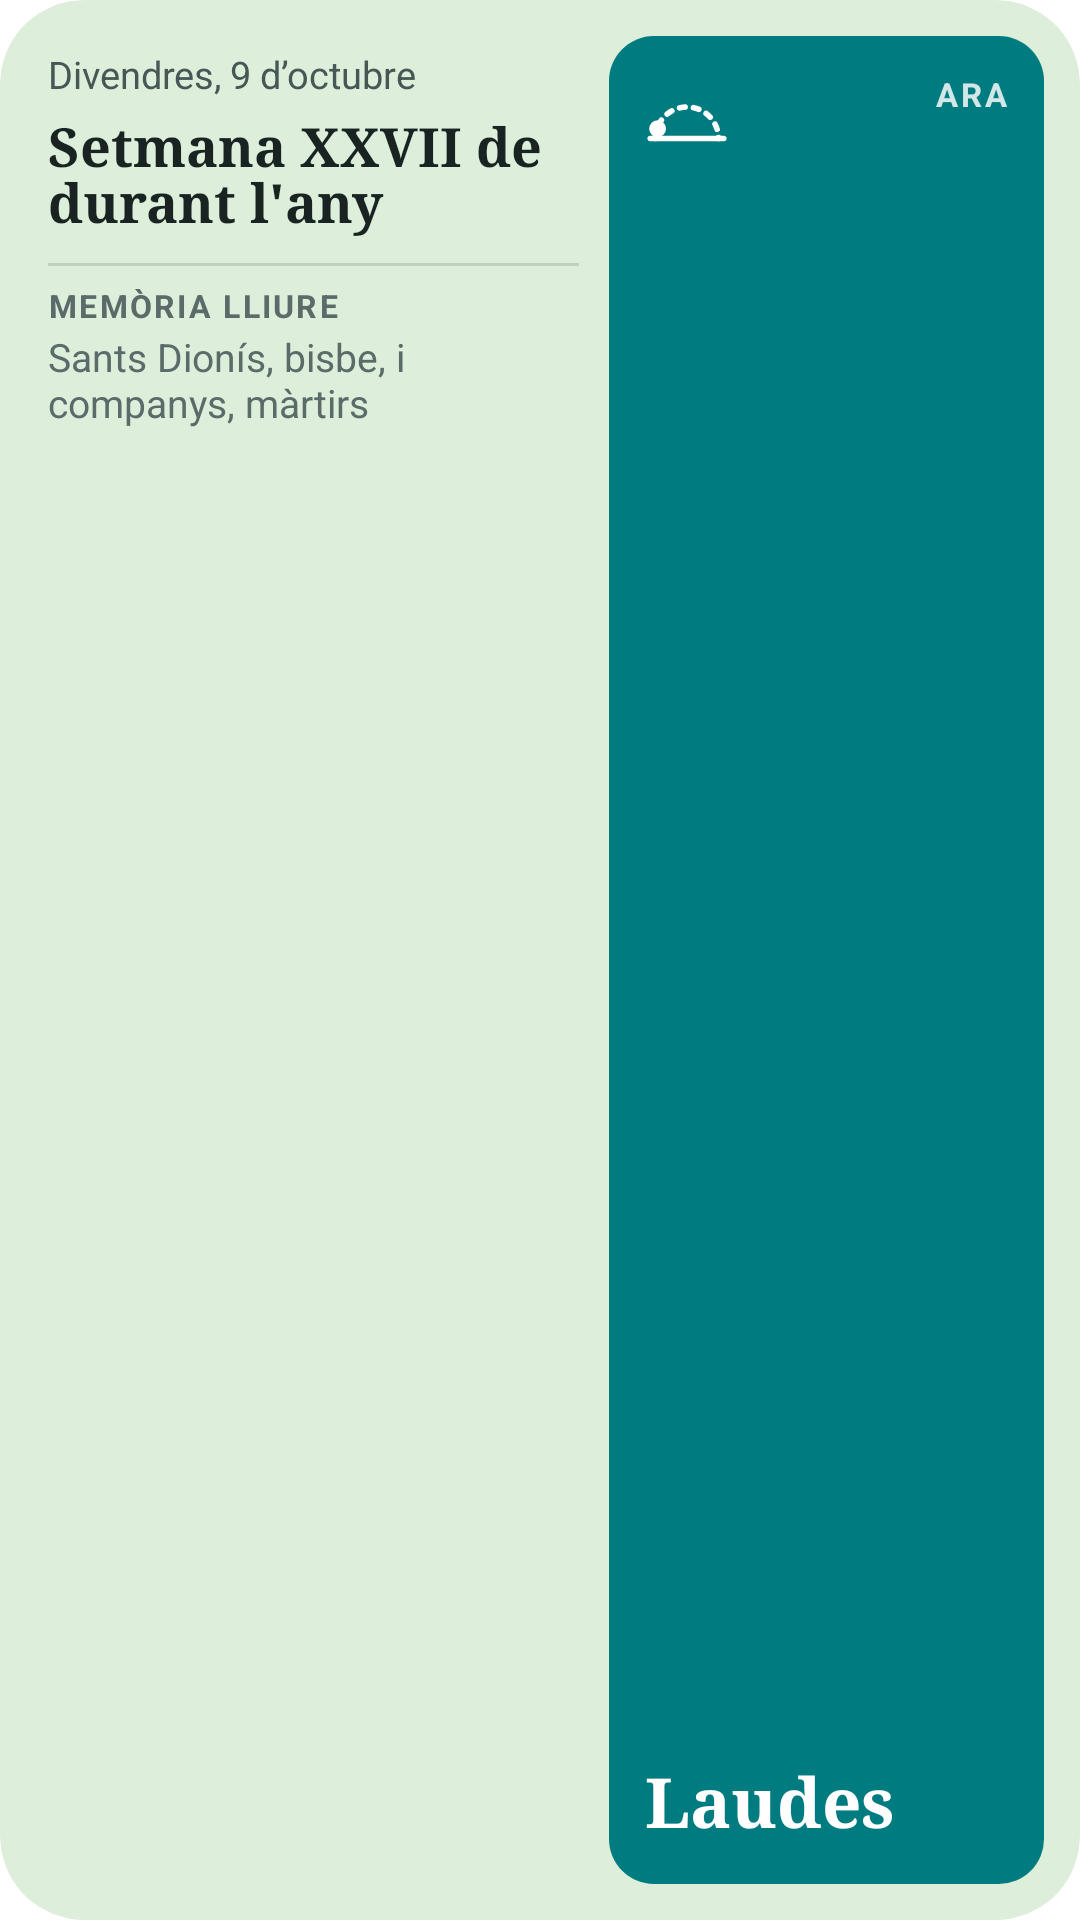

Icons on this 1080px×1920px Android screen, each with the point to tap as [x,y]:
hour laudes: [687,123]
